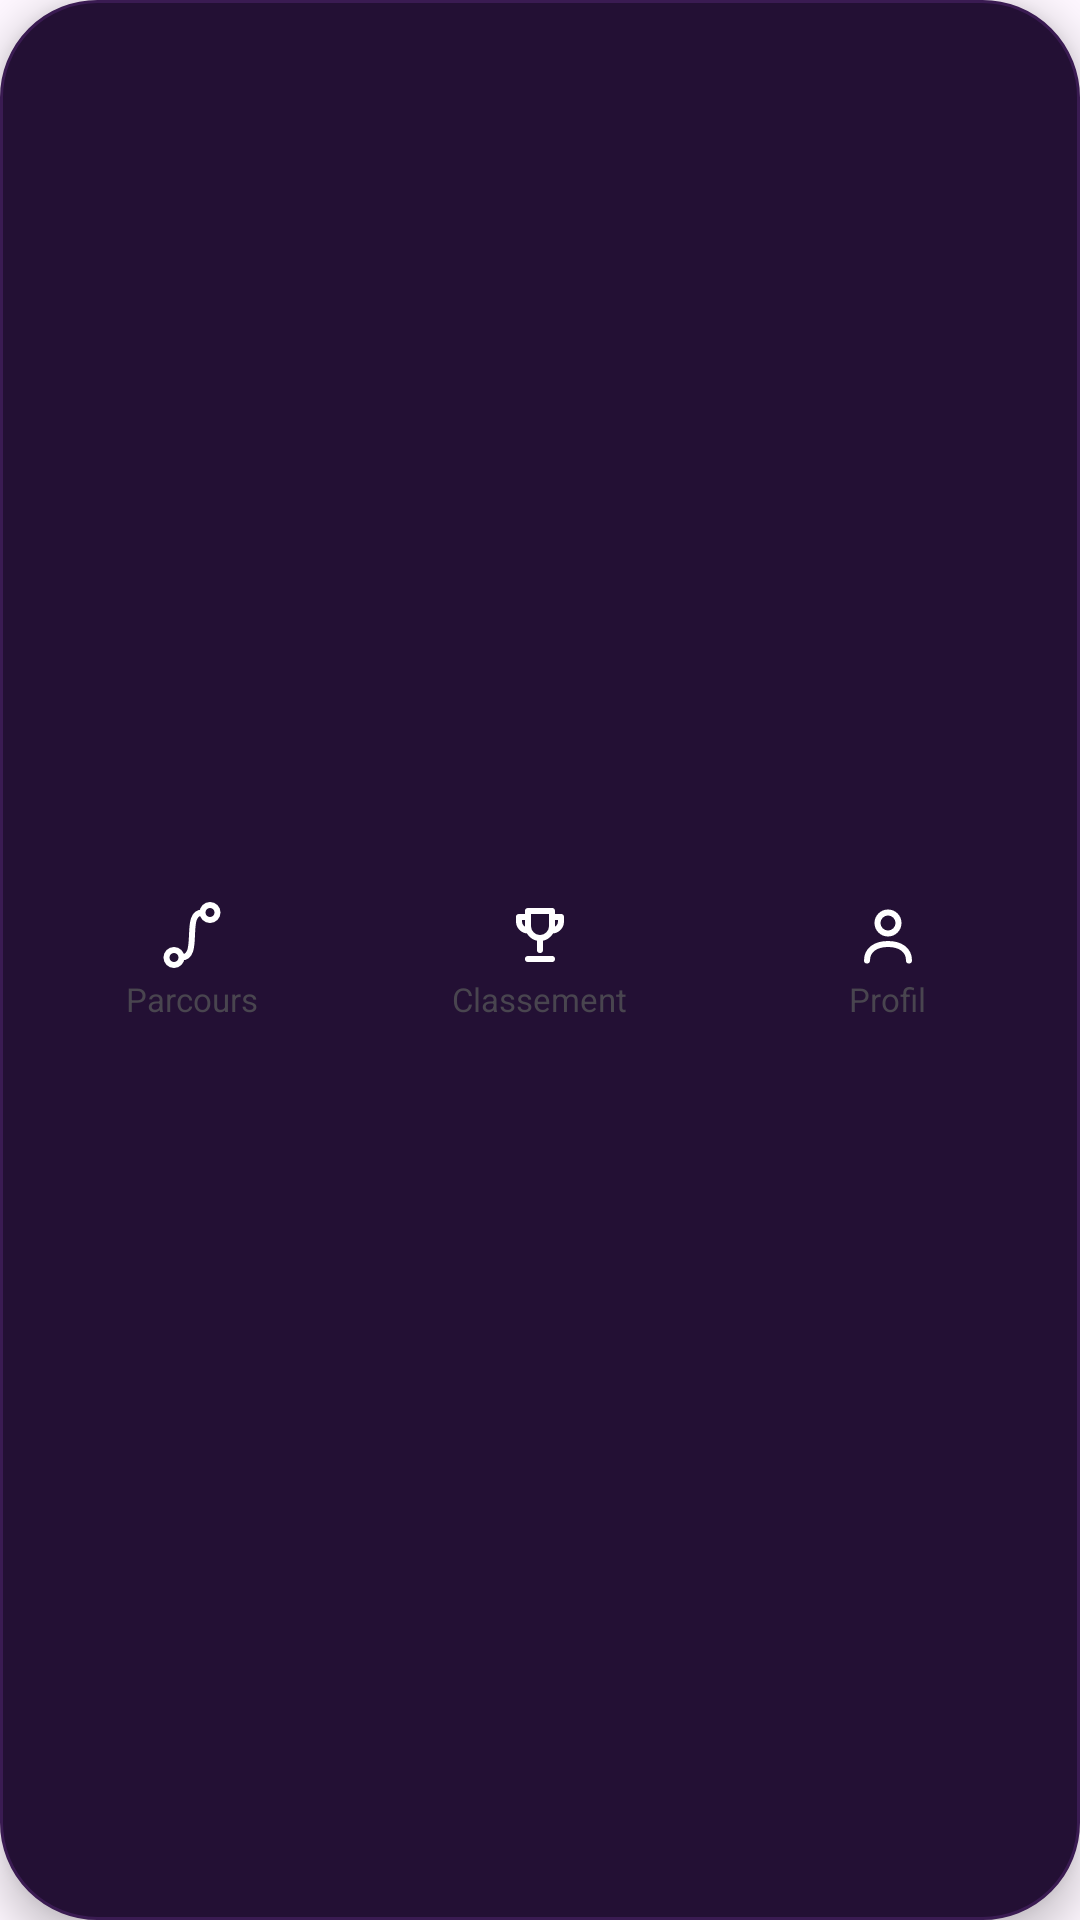

Screen size 1080x1920. Icon name, then its box in pixels as (x1, y1, x2, y2):
trophy: (516, 908, 564, 962)
